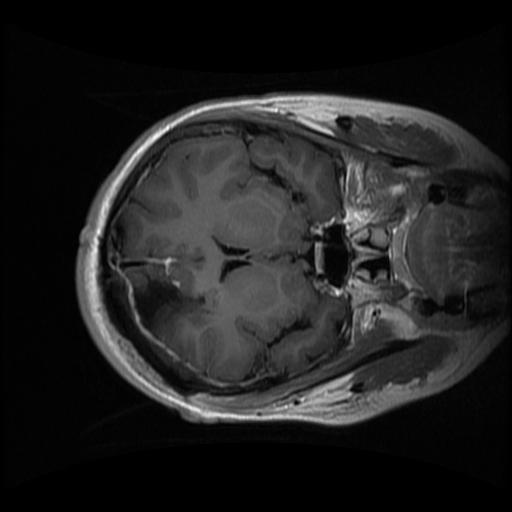glioma: (132, 270, 196, 333)
